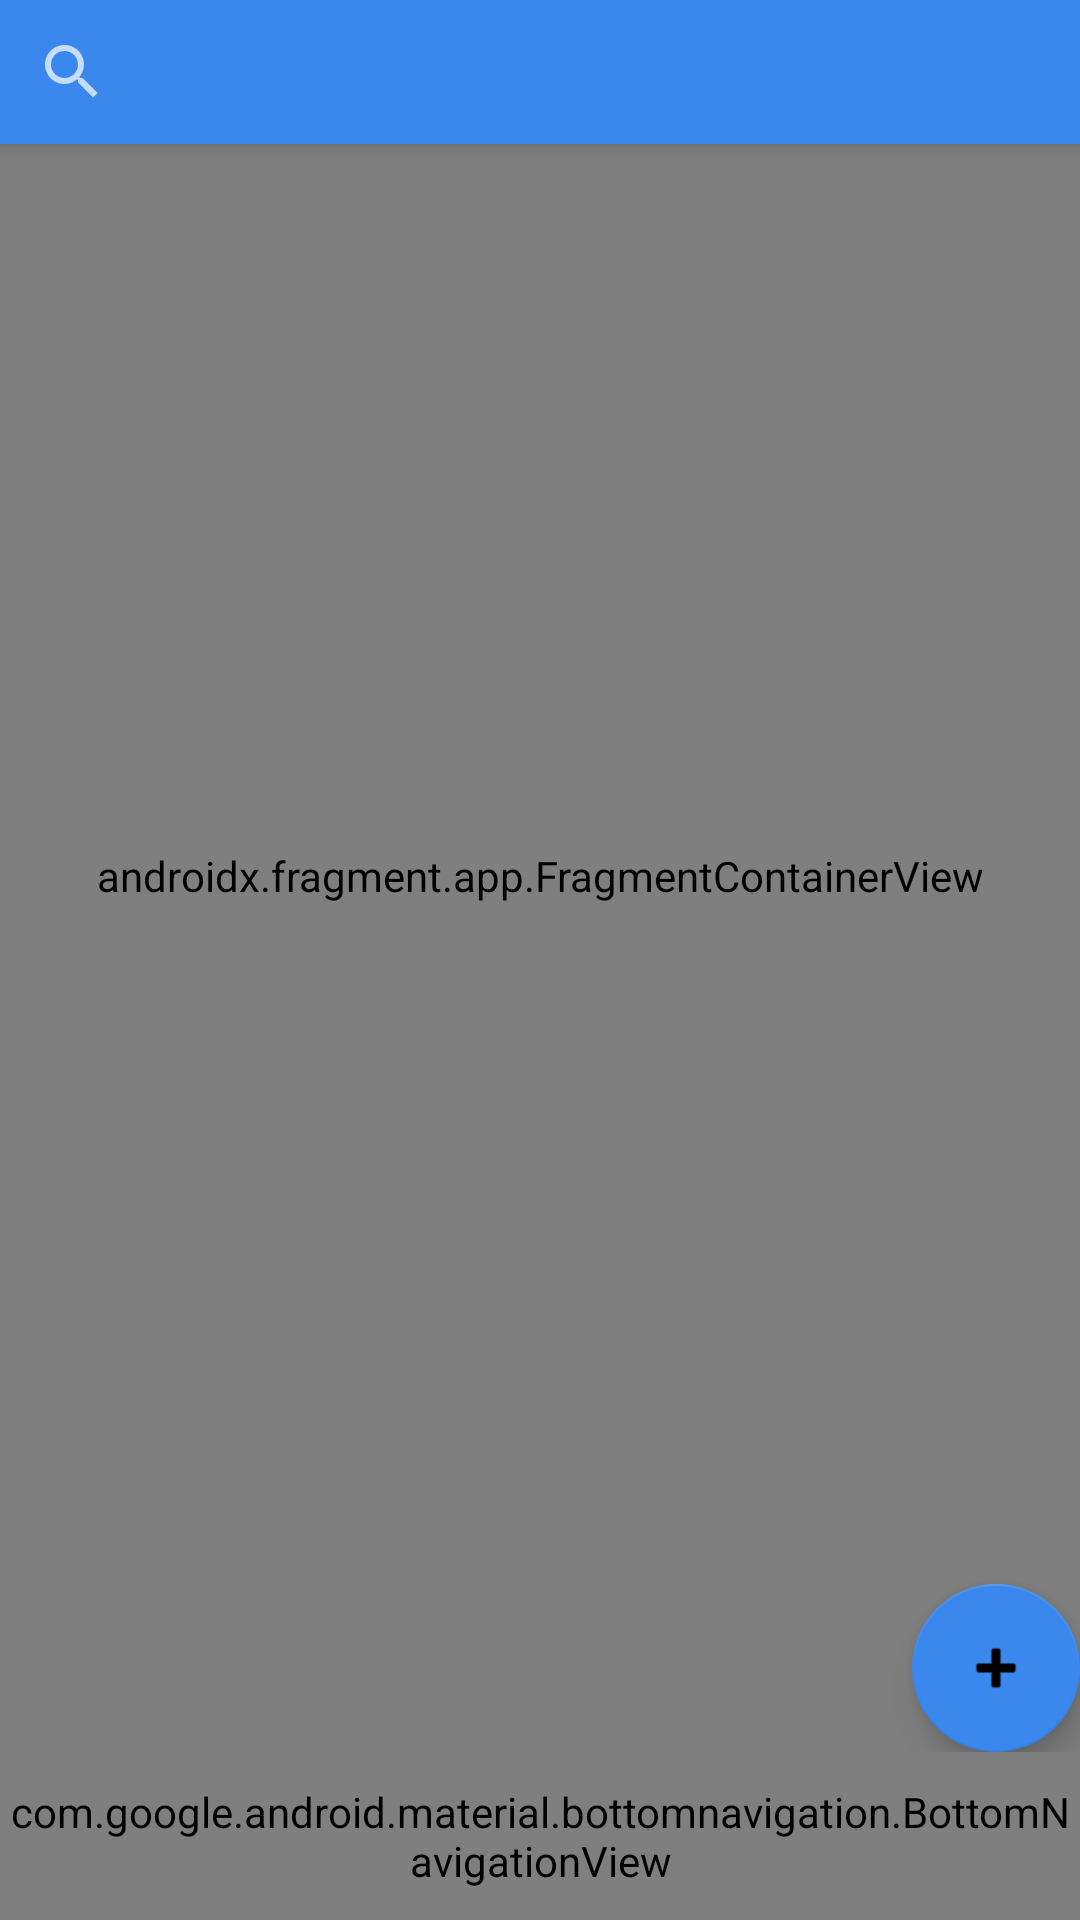

Where icons sit on this 1080*1920 app screen, as {"left": x1, "top": y1, "right": x2, "bottom": y2}:
Represents a view to invoke an action: {"left": 912, "top": 1584, "right": 1080, "bottom": 1752}
